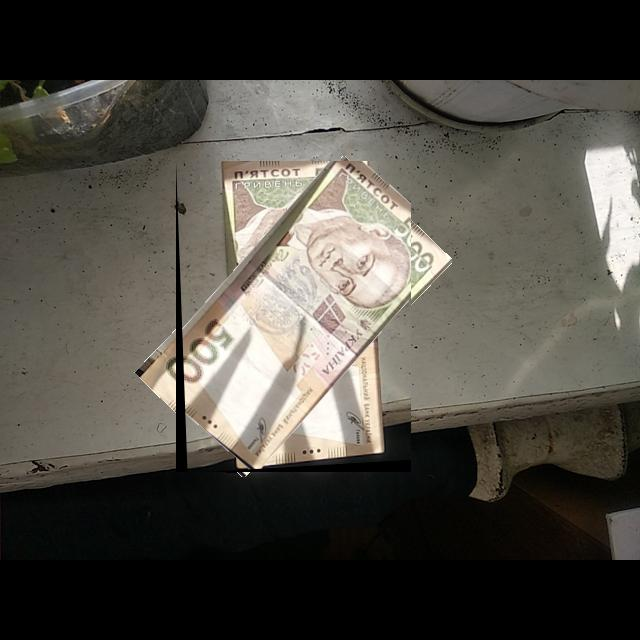500uah: (176, 161, 412, 473)
